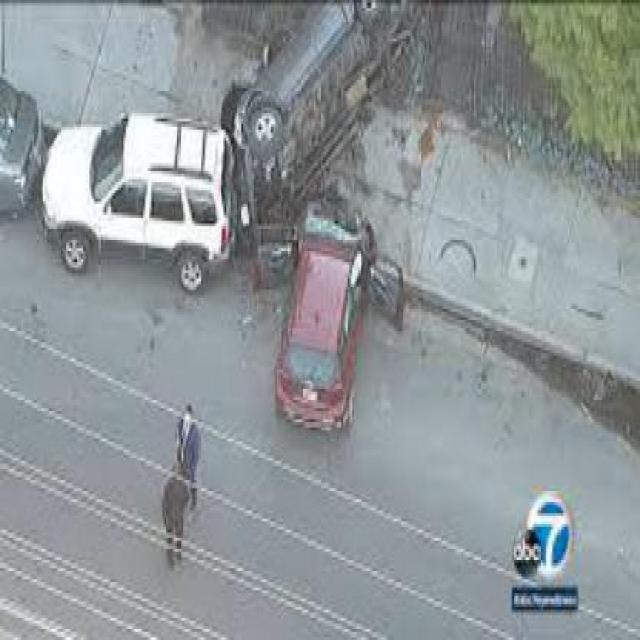accident: (14, 8, 486, 265), (220, 0, 422, 433)
